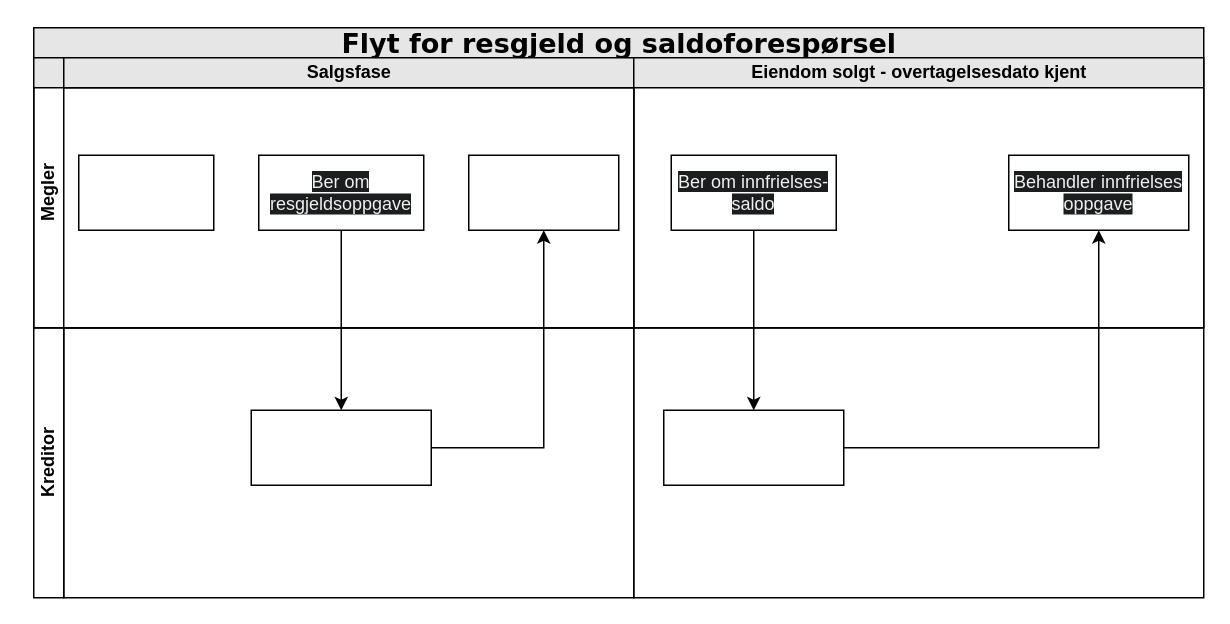
This 1230x624 diagram has some shape labels left out. Here are the shapes that lost their labels. From the top down, the box of each, then its label:
(77, 154, 214, 230): Sjekk heftelser på eiendom
(467, 154, 619, 230): Behandler resgjeldsoppgave
(250, 409, 431, 485): Fyller ut resgjeldsoppgave
(662, 409, 844, 485): Fyller ut innfrielses oppgave
